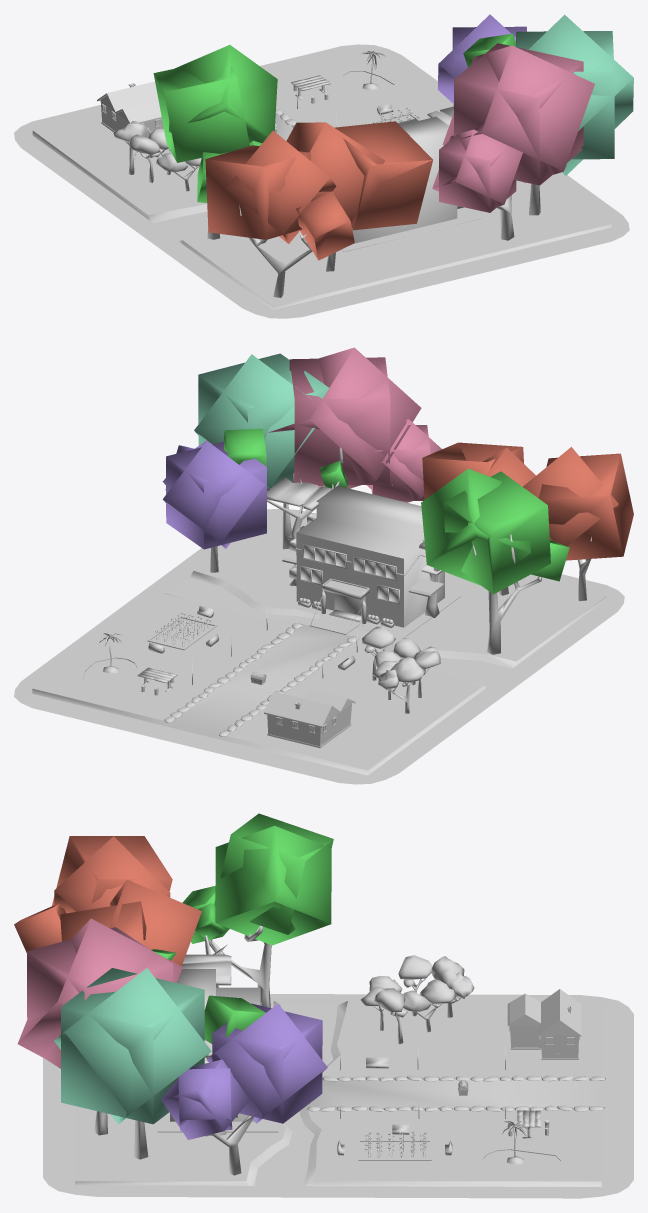
The model's file is basic-77b29a58.glb.
3 renders of one model, top to bottom at view 1: azimuth 30°, elevation 25°; view 2: azimuth 150°, elevation 25°; view 3: azimuth 270°, elevation 25°, orthographic. The views are drawn at different scales.
Parts seen in each view (by area): view 1: field, school, house; view 2: field, school, house; view 3: field, house, school, flavors.
Part boxes in pixels (x1,y1,x2,y2): field: (14, 14, 633, 318); school: (341, 116, 481, 251); house: (97, 81, 163, 132); field: (14, 347, 633, 784); school: (270, 485, 460, 636); house: (264, 689, 355, 748); field: (14, 813, 633, 1198); house: (507, 989, 581, 1059); school: (157, 969, 278, 1132); flavors: (364, 1131, 426, 1157).
Bounding box in the file's own units: 42.38 × 19.12 × 48.84.
